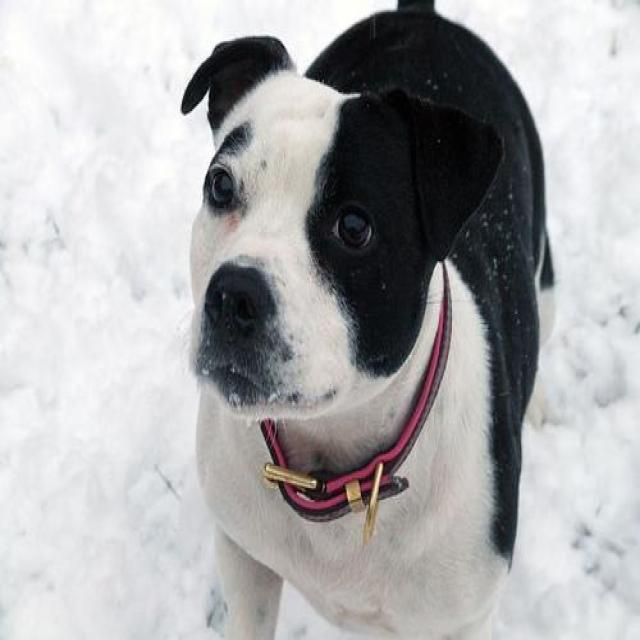staffordshire_bullterrier: (173, 0, 559, 637)
